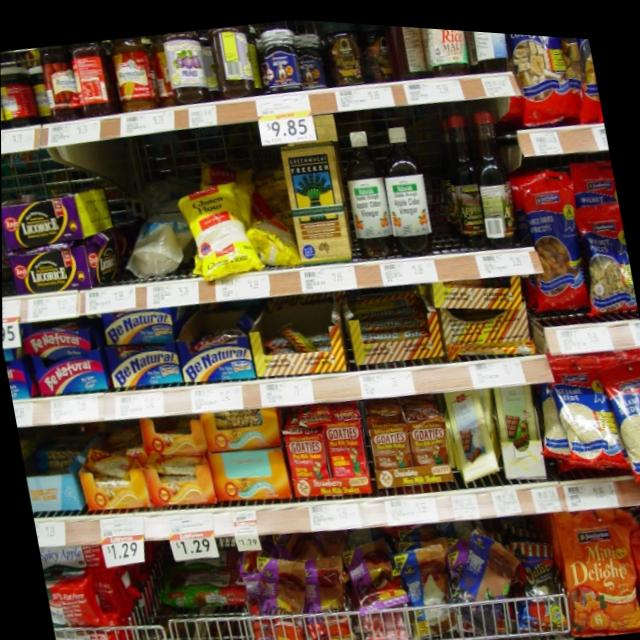q55: (279, 130, 353, 262)
